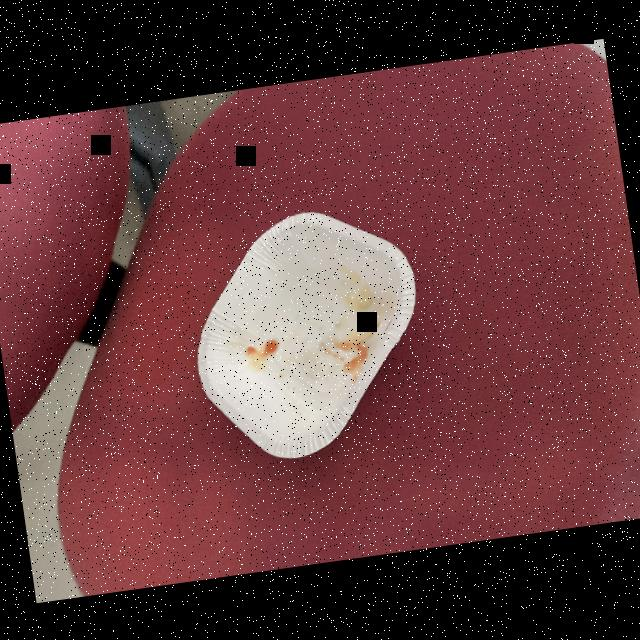cardboard_bowl: (168, 174, 444, 484)
